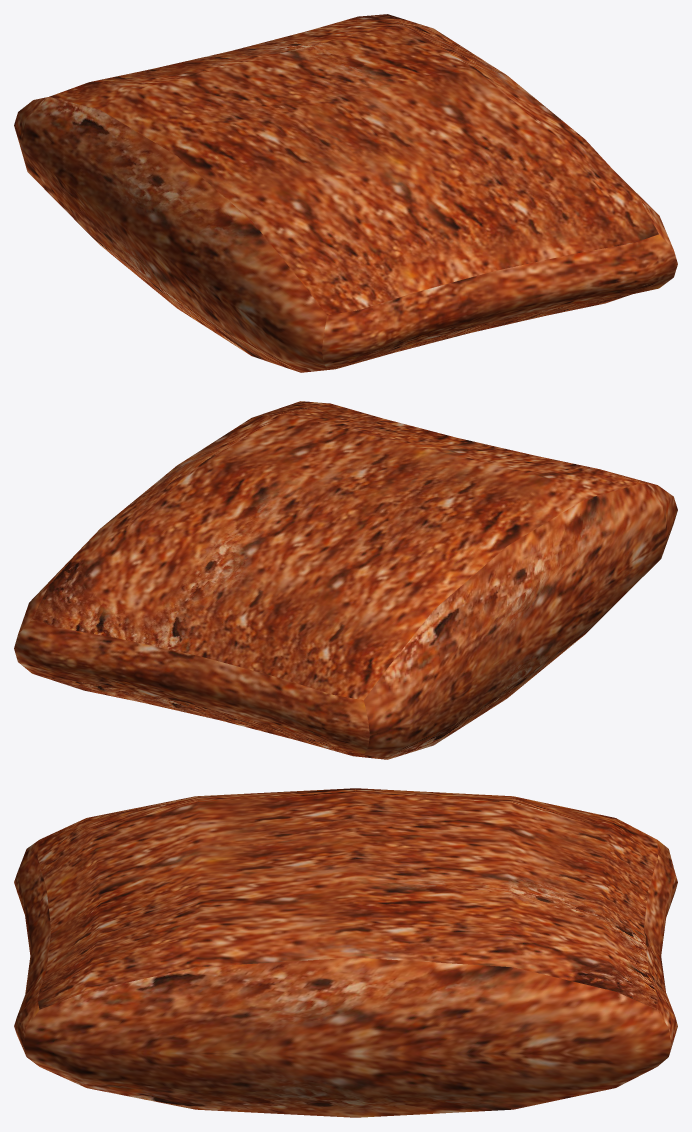
File: nesq_small.obj
3 renders of one model, top to bottom at view 1: azimuth 30°, elevation 25°; view 2: azimuth 150°, elevation 25°; view 3: azimuth 270°, elevation 25°, orthographic. The views are drawn at different scales.
Visible parts, largest first — view 1: Cube_Cube.001; view 2: Cube_Cube.001; view 3: Cube_Cube.001.
Boxes of the visible parts, x1,y1,x2,y2 form: Cube_Cube.001: [14, 14, 677, 372]; Cube_Cube.001: [14, 401, 677, 759]; Cube_Cube.001: [14, 788, 677, 1117].
Bounding box in the file's own units: 0.909 × 0.4025 × 1.26.
